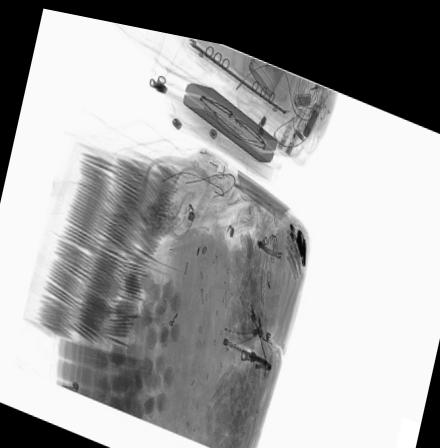Lighter: (280, 86, 312, 144)
